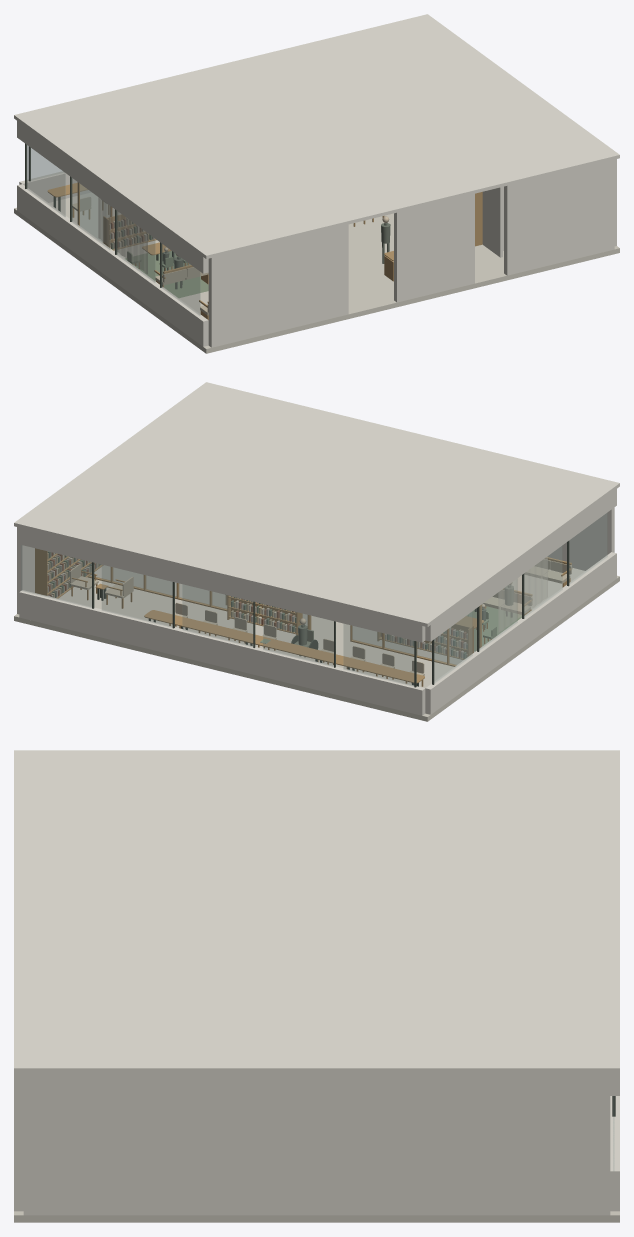
File: community-reading-room.glb
3 renders of one model, top to bottom at view 1: azimuth 30°, elevation 25°; view 2: azimuth 150°, elevation 25°; view 3: azimuth 270°, elevation 25°, orthographic. The views are drawn at different scales.
Parts seen in each view (by area): view 1: Ceiling - hide for interior inspection, 南侧保留墙, 南侧服务墙, 入口与次出口间墙, West glazing (×4), 西侧窗下墙, Floor finish panel 1, 西侧窗上墙, Floor slab, Sheer side-light filter - illustrative, Floor finish panel 0, Floor finish panel 3 (+6 smaller); view 2: Ceiling - hide for interior inspection, North glazing (×5), 北侧窗下墙, Floor finish panel 0, 北侧窗上墙, West glazing (×4), 西侧窗下墙, Acoustic boundary glazing - product to be verified (×2), 西侧窗上墙, Floor slab, Tabletop, 南侧保留墙 (+5 smaller); view 3: Ceiling - hide for interior inspection, 东侧外墙, Floor slab, 南侧服务墙, 北侧窗下墙.
Part boxes in pixels (x1,y1,x2,y2): Ceiling - hide for interior inspection: [14, 14, 619, 258]; 南侧保留墙: [208, 224, 348, 347]; 南侧服务墙: [504, 159, 614, 275]; 入口与次出口间墙: [394, 193, 474, 302]; West glazing (×4): [27, 145, 200, 315]; 西侧窗下墙: [17, 184, 208, 346]; Floor finish panel 1: [147, 244, 619, 349]; 西侧窗上墙: [17, 121, 208, 273]; Floor slab: [14, 209, 619, 353]; Sheer side-light filter - illustrative: [98, 197, 147, 273]; Floor finish panel 0: [14, 192, 159, 265]; Floor finish panel 3: [348, 213, 393, 256]; Ceiling - hide for interior inspection: [14, 382, 619, 626]; North glazing (×5): [21, 545, 413, 686]; 北侧窗下墙: [19, 590, 425, 715]; Floor finish panel 0: [14, 565, 506, 717]; 北侧窗上墙: [19, 527, 425, 642]; West glazing (×4): [434, 513, 607, 682]; 西侧窗下墙: [425, 552, 616, 714]; Acoustic boundary glazing - product to be verified (×2): [86, 562, 476, 664]; 西侧窗上墙: [425, 489, 616, 641]; Floor slab: [14, 577, 619, 721]; Tabletop: [144, 610, 424, 683]; 南侧保留墙: [547, 507, 614, 570]; Ceiling - hide for interior inspection: [14, 750, 619, 1073]; 东侧外墙: [23, 1073, 610, 1215]; Floor slab: [14, 1215, 619, 1222]; 南侧服务墙: [14, 1073, 23, 1211]; 北侧窗下墙: [610, 1096, 619, 1211].
Bounding box in the file's own units: 15.4 × 3.49 × 12.4.
